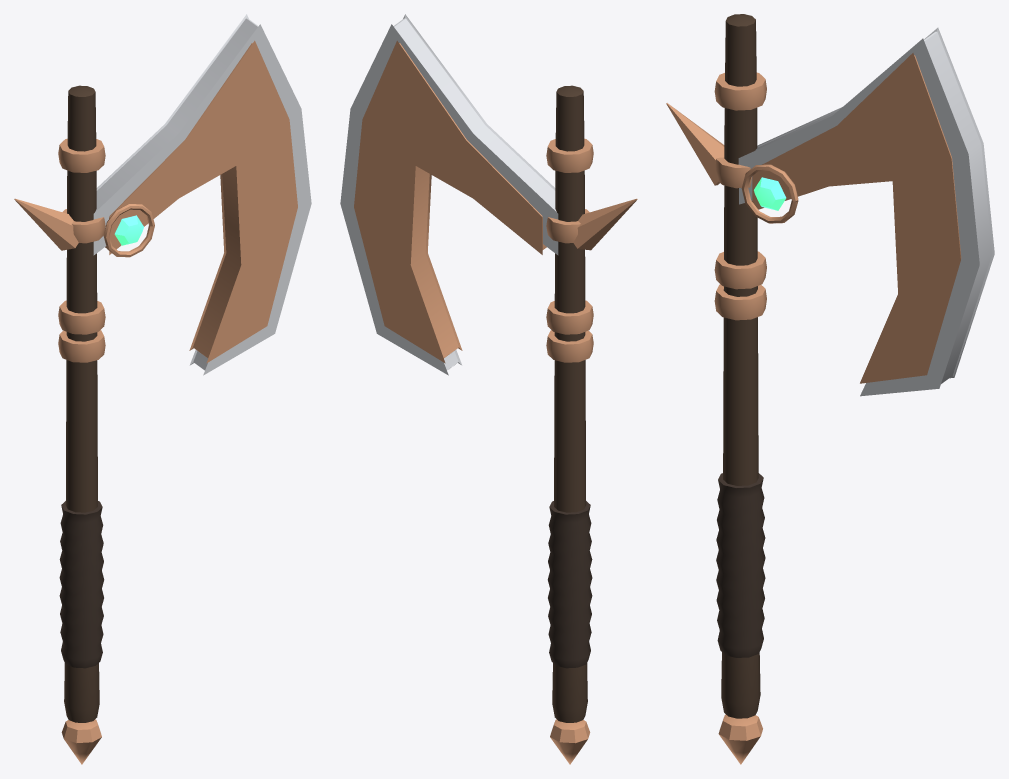
Rendered from artisan_crescent_moon_axe.glb.
The picture shows the model from 3 angles, left to right: view 1: azimuth 30°, elevation 25°; view 2: azimuth 150°, elevation 25°; view 3: azimuth 330°, elevation 25°; orthographic projection. The views are drawn at different scales.
Parts seen in each view (by area): view 1: artisan_crescent_moon_axe; view 2: artisan_crescent_moon_axe; view 3: artisan_crescent_moon_axe.
Boxes of the visible parts, left/top/right/bottom form: artisan_crescent_moon_axe: left=14, top=14, right=311, bottom=764; artisan_crescent_moon_axe: left=340, top=14, right=637, bottom=764; artisan_crescent_moon_axe: left=666, top=14, right=994, bottom=764.
Bounding box in the file's own units: 0.4325 × 1 × 0.0702.
